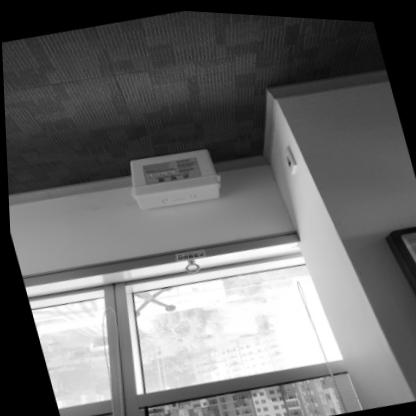DDL: (121, 138, 226, 215)
